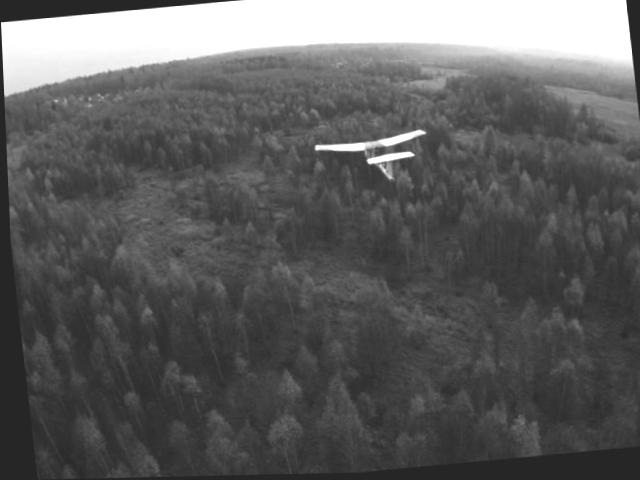hedef: (312, 115, 441, 199)
